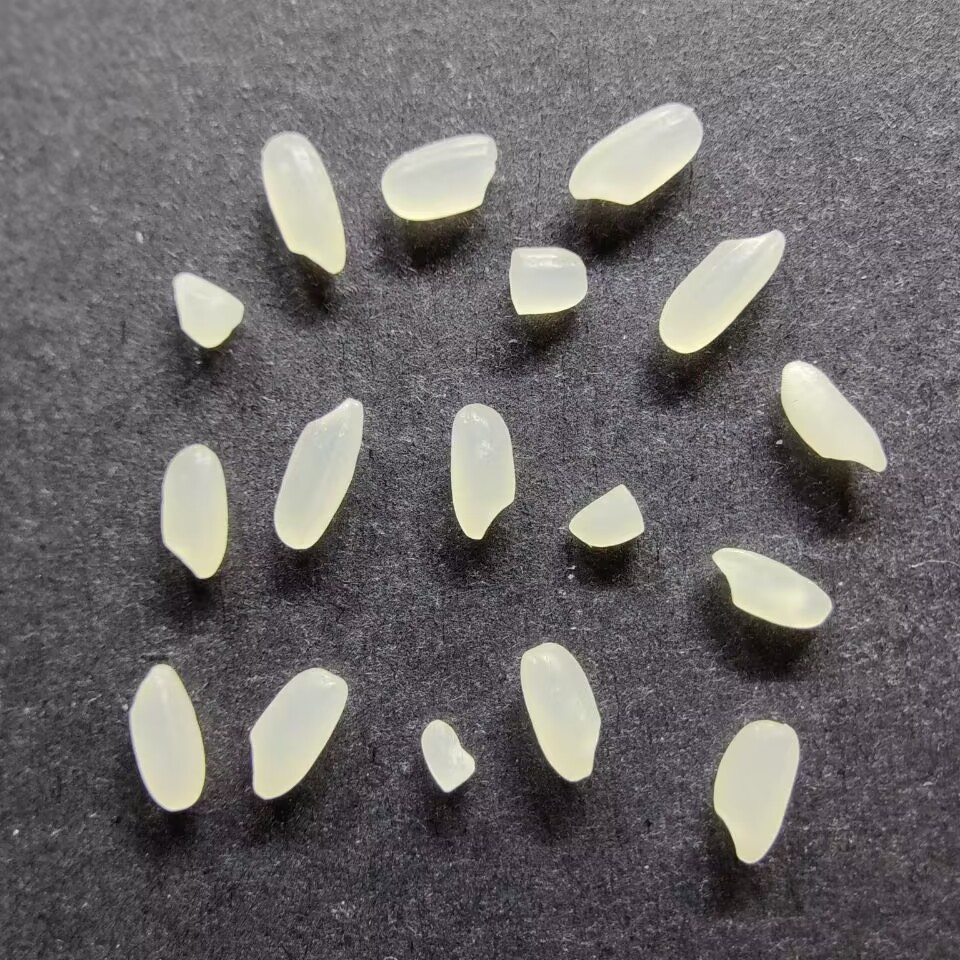broken: (170, 270, 245, 352), (506, 245, 589, 319), (565, 480, 647, 551), (419, 716, 479, 795)
rice: (656, 226, 788, 355), (565, 102, 705, 207), (271, 394, 364, 551), (247, 667, 350, 801), (710, 718, 799, 865), (778, 359, 888, 476), (259, 131, 347, 276), (518, 640, 603, 783), (126, 662, 206, 813), (379, 131, 499, 222), (709, 546, 832, 630), (447, 402, 518, 542), (158, 442, 229, 580)
